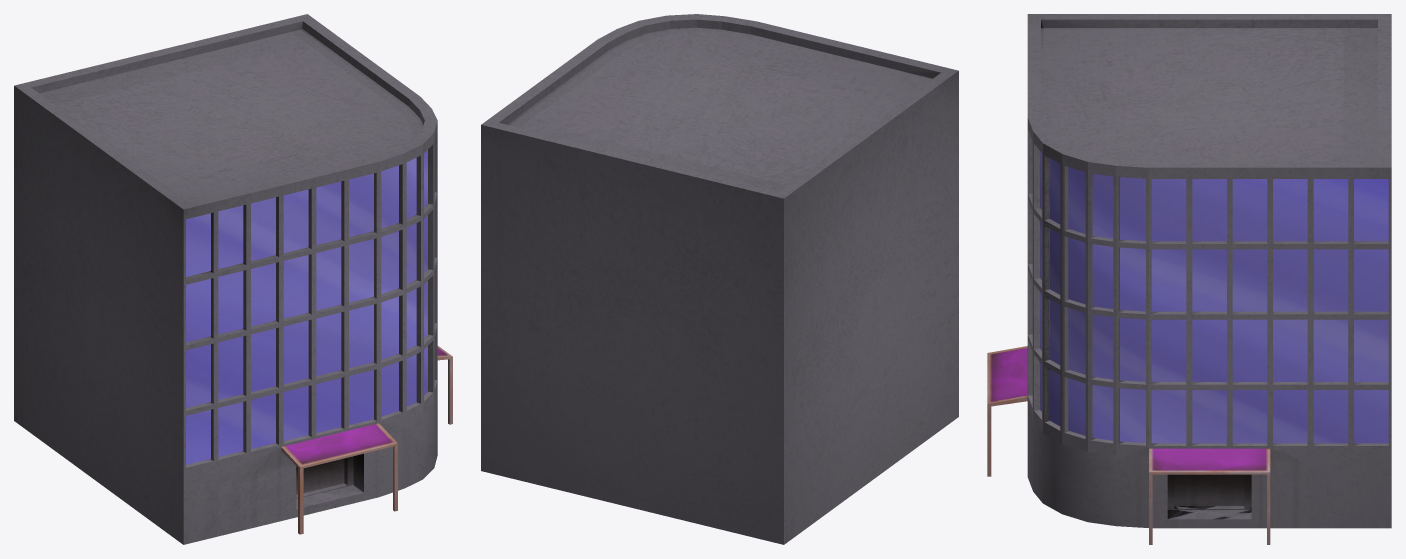
Rendered from Building08.fbx.
3 renders of one model, left to right at view 1: azimuth 30°, elevation 25°; view 2: azimuth 150°, elevation 25°; view 3: azimuth 270°, elevation 25°, orthographic. The views are drawn at different scales.
Visible parts, largest first — view 1: Building08; view 2: Building08; view 3: Building08.
Boxes of the visible parts, x1,y1,x2,y2 form: Building08: (14, 14, 452, 544); Building08: (481, 14, 958, 544); Building08: (987, 14, 1391, 544).
Size of the model in its own units: 1666 by 1639 by 1666.
